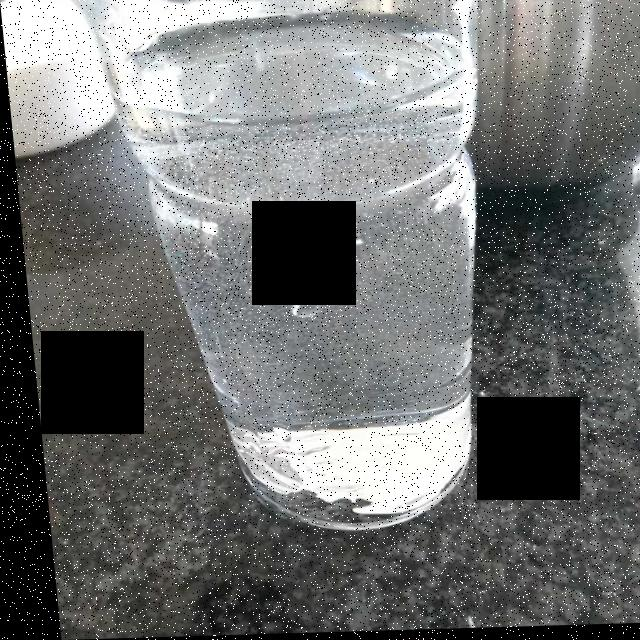water: (113, 29, 466, 474)
